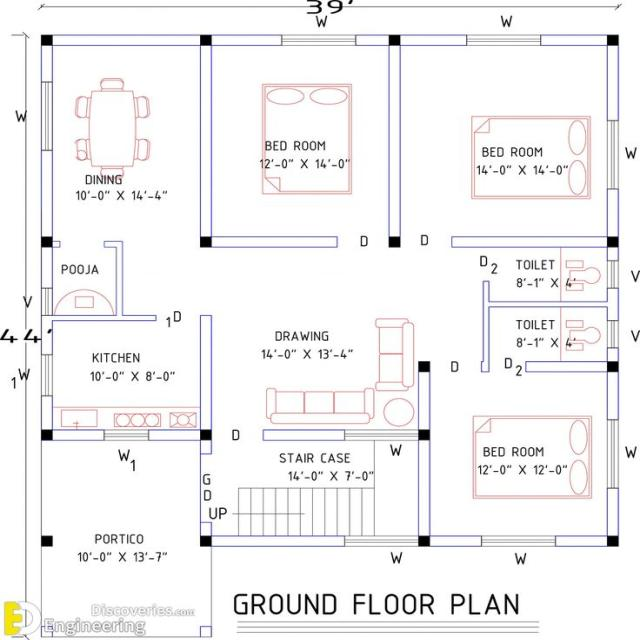column: (194, 232, 216, 255), (412, 359, 436, 377), (414, 531, 434, 551), (602, 533, 622, 552), (601, 232, 622, 250), (37, 234, 58, 252), (197, 31, 216, 50), (384, 233, 404, 250), (603, 31, 621, 49), (38, 426, 55, 445), (38, 33, 58, 49), (383, 32, 403, 48), (197, 426, 215, 443), (415, 427, 434, 443), (36, 532, 55, 548), (197, 532, 214, 549), (602, 359, 621, 374)
